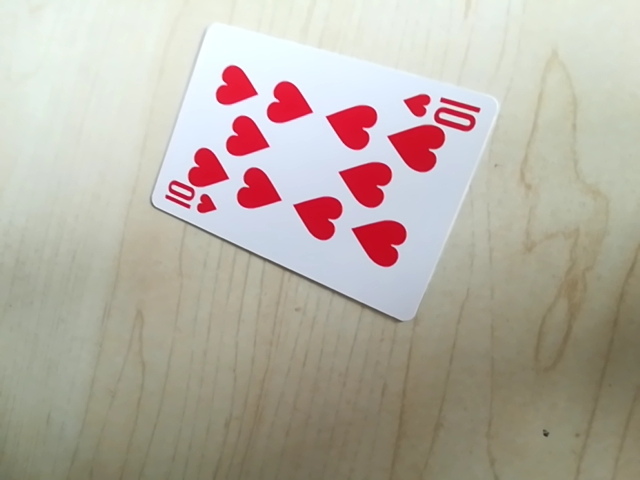hx 10: (399, 90, 486, 128), (159, 185, 218, 220)
